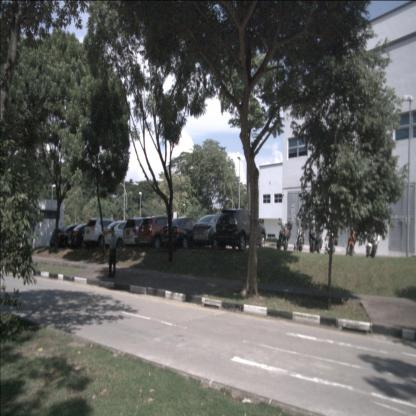human-pedestrian-adult: (107, 226, 117, 280)
vehicle-car: (216, 208, 267, 250), (192, 215, 239, 249), (138, 216, 184, 249), (162, 218, 210, 249), (122, 217, 160, 247), (104, 220, 141, 250), (83, 219, 121, 248), (68, 222, 102, 250), (56, 225, 88, 247)
vehicle-motorcycle: (277, 216, 292, 250), (309, 223, 323, 253), (366, 224, 378, 258), (295, 218, 304, 253), (325, 224, 335, 255), (348, 224, 356, 256)
